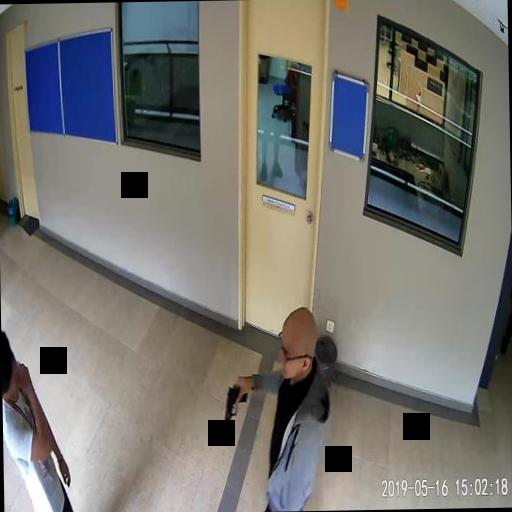Handgun: (219, 382, 246, 436)
